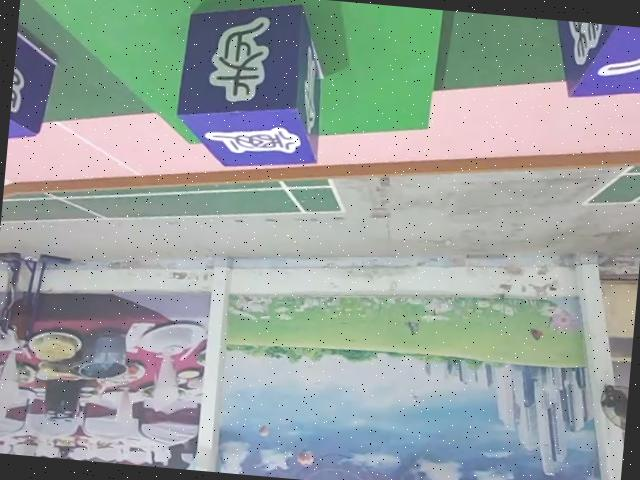R2 Fake Blue: (171, 0, 330, 174), (545, 19, 640, 104), (8, 12, 60, 148)
